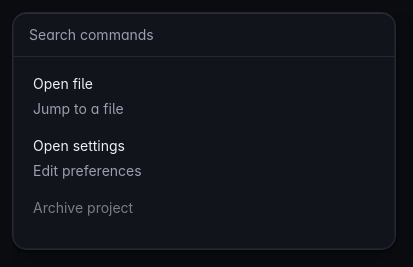
Test: ArchCommand › filters commands by search text
In the search field with placeholder "Search commands": (204, 35) [13,13,395,57], type "settings"
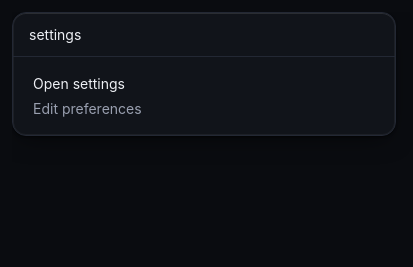
Expected: the text "Open settings" is shown, [33,75,125,92]
Now the number of options is 1, box [21,65,387,127]
